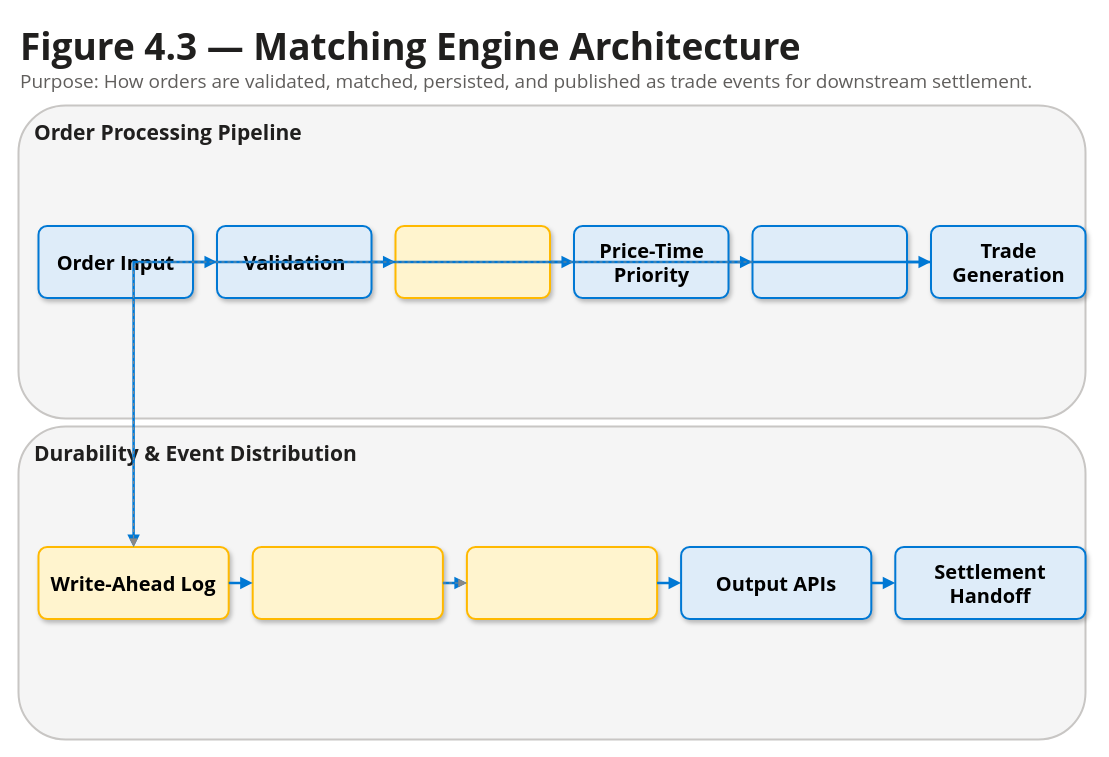
This 1109x757 diagram has some shape labels left out. The shapes that lost their labels are listed below. From the top down, each one's centre as x and y in pixels, then its label:
At [473,263]: "Order Book".
At [830,263]: "Matching Engine".
At [348,584]: "Event Streaming Platform".
At [562,584]: "Event Bus".
